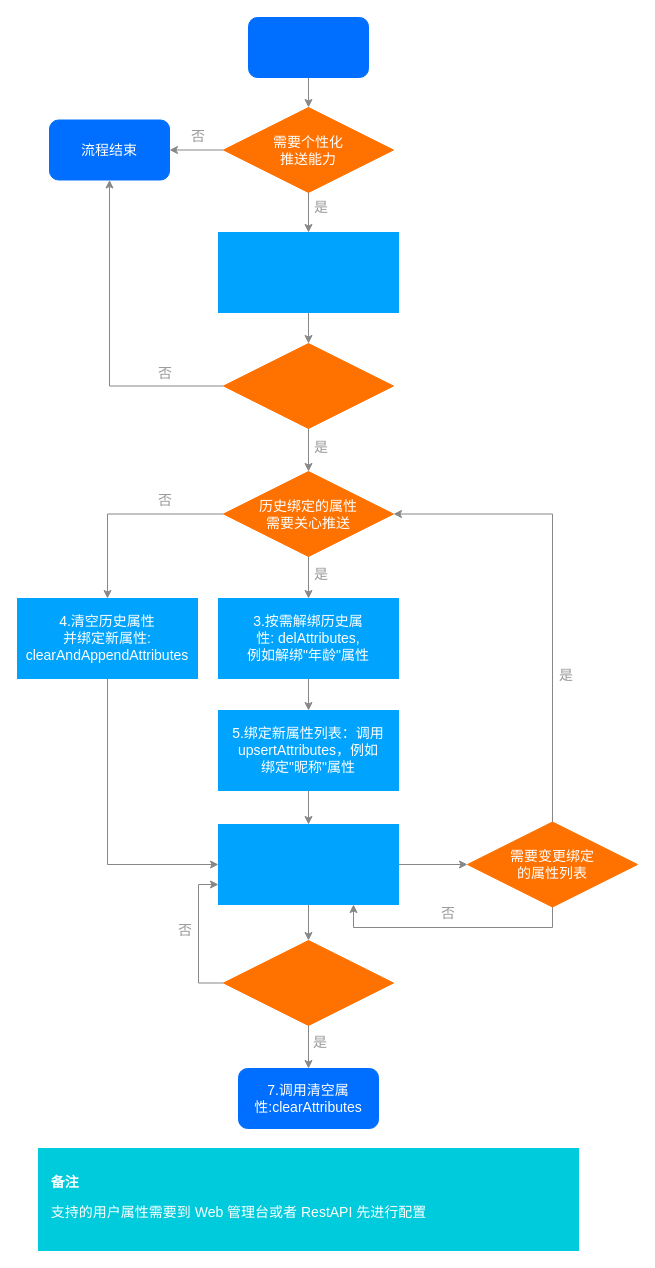
Some shapes in this 655 by 1268 pixel diagram are drawn without their labels. Each missing label, with the centre of its shape:
"1.注册设备成功" goes at [308,47].
"2.App获取要绑定的用户属性列表(例如“昵称”)" goes at [308,272].
"6.用户正常使用App" goes at [308,864].
"完全关闭个性化 推送能力" goes at [308,983].
"是否获取成功" goes at [308,385].
